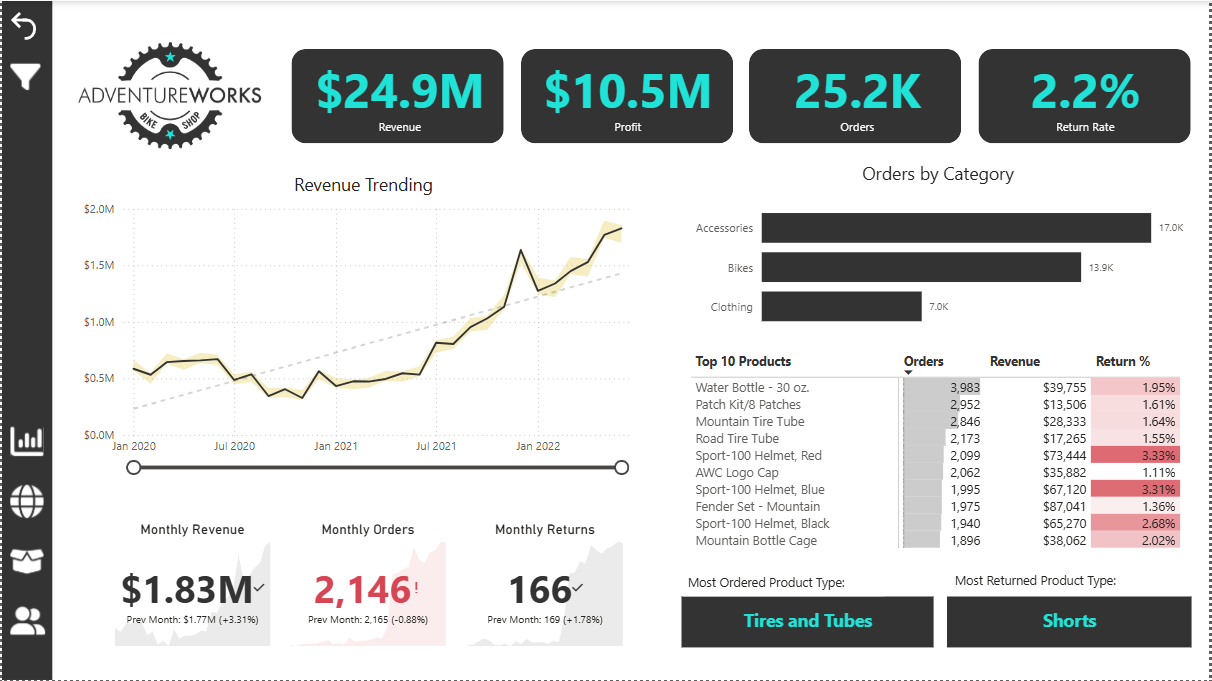

The page's visual inventory and layout, read from the dashboard file:
{"tool":"powerbi","page":{"name":"Exec Dashboard","canvas":[1280,720],"ordinal":2},"visuals":[{"type":"image","title":"AW Logo","box":[54.1,4.5,248.3,191.7],"z":0},{"type":"card","fields":{"Values":["Measure Table.Total Revenue"]},"box":[297.4,19.5,248.3,161.7],"z":0,"group":"g3"},{"type":"shape","box":[307.4,51.2,225,100],"z":0,"group":"g2"},{"type":"shape","title":"Left Navigator","box":[0,0,53.3,720],"z":1000},{"type":"card","fields":{"Values":["Measure Table.Total Profit"]},"box":[539.6,19.5,248.3,161.7],"z":1000,"group":"g3"},{"type":"shape","box":[550.2,51.2,225,100],"z":1000,"group":"g2"},{"type":"group","id":"g1","title":"KPIs","box":[297.4,19.5,975,161.7],"z":2000},{"type":"card","fields":{"Values":["Measure Table.Total Orders"]},"box":[781.8,19.5,248.3,161.7],"z":2000,"group":"g3"},{"type":"group","id":"g2","title":"KPI Backgrounds","box":[307.4,51.2,953.3,100],"z":2000,"group":"g1"},{"type":"shape","box":[793,51.2,225,100],"z":2000,"group":"g2"},{"type":"actionButton","box":[5,635,48.3,45],"z":2000,"group":"g4"},{"type":"group","id":"g3","title":"KPI Values","box":[297.4,19.5,975,161.7],"z":3000,"group":"g1"},{"type":"card","fields":{"Values":["Measure Table.Return Rate"]},"box":[1024.1,19.5,248.3,161.7],"z":3000,"group":"g3"},{"type":"shape","box":[1035.7,51.2,225,100],"z":3000,"group":"g2"},{"type":"lineChart","title":"Revenue Trending","fields":{"Y":["Measure Table.Total Revenue"],"Category":["Calendar Lookup.Start of Month"]},"box":[81.1,181.3,604.4,324.5],"z":3000},{"type":"actionButton","box":[5,571.7,48.3,43.3],"z":3000,"group":"g4"},{"type":"actionButton","box":[5,508.3,48.3,43.3],"z":4000,"group":"g4"},{"type":"kpi","title":"Monthly Revenue ","fields":{"Indicator":["Measure Table.Total Revenue"],"TrendLine":["Calendar Lookup.Start of Month"],"Goal":["Measure Table.Previos Month Revenue"]},"box":[114.5,552.4,175,136.7],"z":4000},{"type":"actionButton","box":[5,445,48.3,43.3],"z":4500,"group":"g4"},{"type":"kpi","title":"Monthly Returns","fields":{"TrendLine":["Calendar Lookup.Start of Month"],"Goal":["Measure Table.Previous Month Returns"],"Indicator":["Measure Table.Total Returns"]},"box":[487.9,552.4,175,136.7],"z":5000},{"type":"kpi","title":"Monthly Orders","fields":{"TrendLine":["Calendar Lookup.Start of Month"],"Goal":["Measure Table.Previous Month Orders"],"Indicator":["Measure Table.Total Orders"]},"box":[301.2,552.4,175,136.7],"z":6000},{"type":"clusteredBarChart","title":"Orders by Category","fields":{"Category":["Product Categories Lookup.CategoryName"],"Y":["Measure Table.Total Orders"]},"box":[725.3,170.2,534.4,192.5],"z":7000},{"type":"pivotTable","fields":{"Rows":["Product Lookup.ProductName"],"Values":["Measure Table.Total Orders","Measure Table.Total Revenue","Measure Table.Return Rate"]},"box":[725.3,367.4,534.4,222.7],"z":8000},{"type":"card","fields":{"Values":["Min(Product Subcategories Lookup.SubcategoryName)"]},"box":[720.5,631.2,267.2,54.1],"z":9000},{"type":"textbox","box":[722.1,601,213.1,30.2],"z":10000},{"type":"card","fields":{"Values":["Min(Product Subcategories Lookup.SubcategoryName)"]},"box":[1002.1,631.2,259.3,54.1],"z":11000},{"type":"textbox","box":[1005.3,599.4,213.1,30.2],"z":12000},{"type":"actionButton","box":[3.2,6.4,41.4,39.8],"z":13000},{"type":"group","id":"g4","title":"Navigation Buttons","box":[5,445,48.3,235],"z":14000},{"type":"actionButton","box":[5,60,45,40],"z":15000}]}

Visuals, with their boxes on the page's 1280x720 design canvas (x1, y1, x2, y2). These are canvas units, not pixel positions in the 1212x681 screenshot, which may show the page scaled, cropped or inside an application window:
"AW Logo" image: rect(54, 4, 302, 196)
card - Measure Table.Total Revenue: rect(297, 20, 546, 181)
shape: rect(307, 51, 532, 151)
"Left Navigator" shape: rect(0, 0, 53, 720)
card - Measure Table.Total Profit: rect(540, 20, 788, 181)
shape: rect(550, 51, 775, 151)
"KPIs" group: rect(297, 20, 1272, 181)
card - Measure Table.Total Orders: rect(782, 20, 1030, 181)
"KPI Backgrounds" group: rect(307, 51, 1261, 151)
shape: rect(793, 51, 1018, 151)
actionButton: rect(5, 635, 53, 680)
"KPI Values" group: rect(297, 20, 1272, 181)
card - Measure Table.Return Rate: rect(1024, 20, 1272, 181)
shape: rect(1036, 51, 1261, 151)
"Revenue Trending" lineChart: rect(81, 181, 686, 506)
actionButton: rect(5, 572, 53, 615)
actionButton: rect(5, 508, 53, 552)
"Monthly Revenue " kpi: rect(114, 552, 290, 689)
actionButton: rect(5, 445, 53, 488)
"Monthly Returns" kpi: rect(488, 552, 663, 689)
"Monthly Orders" kpi: rect(301, 552, 476, 689)
"Orders by Category" clusteredBarChart: rect(725, 170, 1260, 363)
pivotTable - Product Lookup.ProductName x Measure Table.Total Orders: rect(725, 367, 1260, 590)
card - Min(Product Subcategories Lookup.SubcategoryName): rect(720, 631, 988, 685)
textbox: rect(722, 601, 935, 631)
card - Min(Product Subcategories Lookup.SubcategoryName): rect(1002, 631, 1261, 685)
textbox: rect(1005, 599, 1218, 630)
actionButton: rect(3, 6, 45, 46)
"Navigation Buttons" group: rect(5, 445, 53, 680)
actionButton: rect(5, 60, 50, 100)
